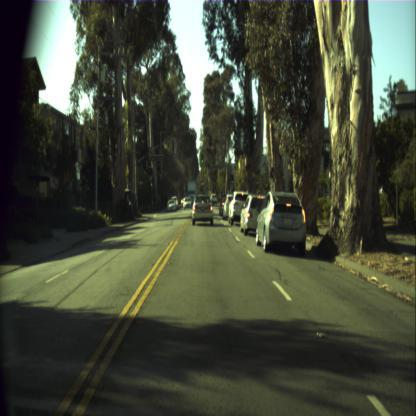Green: (230, 174, 234, 184), (200, 154, 204, 162), (150, 178, 153, 186)
Red: (201, 180, 203, 185)
